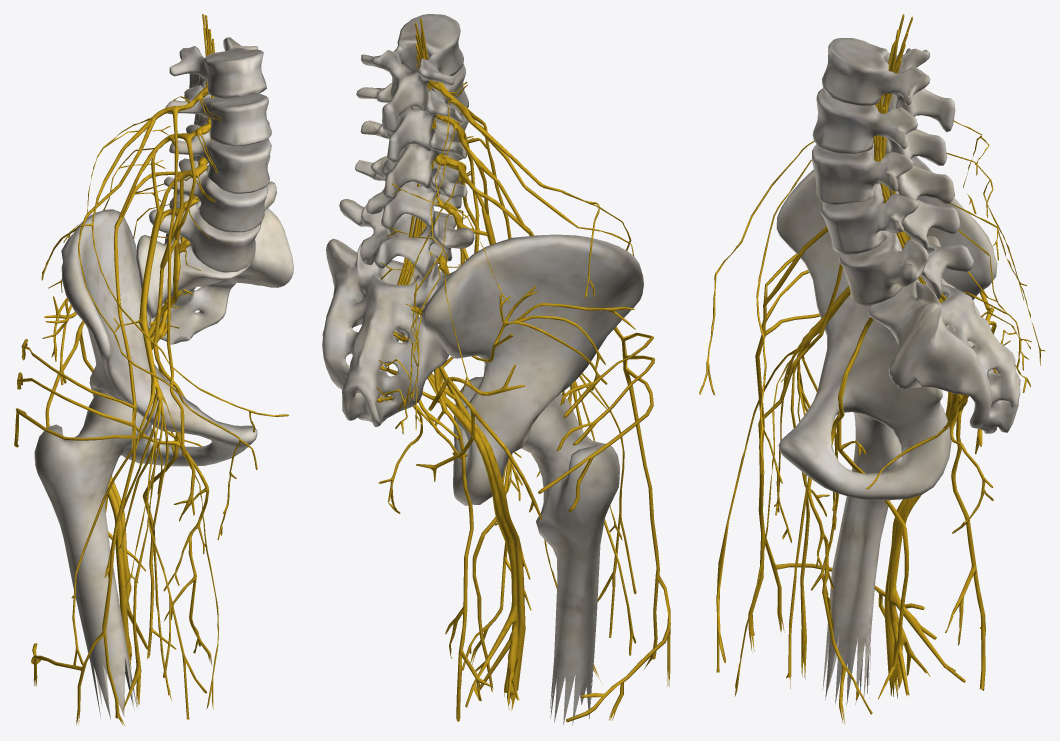
The model's file is lumbosacral-plexus.glb.
The picture shows the model from 3 angles, left to right: view 1: azimuth 30°, elevation 25°; view 2: azimuth 150°, elevation 25°; view 3: azimuth 270°, elevation 25°; orthographic projection. The views are drawn at different scales.
Parts seen in each view (by area): view 1: Right_hip_bone__os_coxa_or_innominate_bone_, Right_femur, Sacrum, Right_femoral_nerve, Right_lateral_femoral_cutaneous_nerve, L1_vertebra, L5_vertebra, L2_vertebra, L3_vertebra, L4_vertebra, Right_lumbar_plexus_L2, Right_anterior_branch_of_obturator_nerve (+12 smaller); view 2: Right_hip_bone__os_coxa_or_innominate_bone_, Right_femur, Sacrum, L1_vertebra, Right_lateral_femoral_cutaneous_nerve, L5_vertebra, L4_vertebra, Right_tibial_part_of_sciatic_nerve, L2_vertebra, L3_vertebra, Right_femoral_nerve, Right_common_fibular_part_of_sciatic_nerve (+14 smaller); view 3: Right_hip_bone__os_coxa_or_innominate_bone_, Sacrum, Right_femur, L1_vertebra, L3_vertebra, L5_vertebra, L2_vertebra, L4_vertebra, Right_femoral_nerve, Right_lateral_femoral_cutaneous_nerve, Right_tibial_part_of_sciatic_nerve, Right_posterior_femoral_cutaneous_nerve (+7 smaller).
Boxes of the visible parts, x1,y1,x2,y2 form: Right_hip_bone__os_coxa_or_innominate_bone_: (61,209,257,466); Right_femur: (34,390,150,719); Sacrum: (136,208,293,344); Right_femoral_nerve: (72,206,218,719); Right_lateral_femoral_cutaneous_nerve: (14,227,136,725); L1_vertebra: (169,37,266,98); L5_vertebra: (149,181,276,272); L2_vertebra: (165,85,271,146); L3_vertebra: (169,120,271,193); L4_vertebra: (163,155,270,233); Right_lumbar_plexus_L2: (48,124,217,292); Right_anterior_branch_of_obturator_nerve: (135,426,212,665); Right_hip_bone__os_coxa_or_innominate_bone_: (421,234,643,505); Right_femur: (521,393,619,725); Sacrum: (322,238,454,426); L1_vertebra: (361,14,463,132); Right_lateral_femoral_cutaneous_nerve: (528,231,670,722); L5_vertebra: (339,199,474,277); L4_vertebra: (355,156,467,229); Right_tibial_part_of_sciatic_nerve: (422,373,519,709); L2_vertebra: (356,64,468,162); L3_vertebra: (360,114,468,199); Right_femoral_nerve: (481,208,636,682); Right_common_fibular_part_of_sciatic_nerve: (439,365,525,710); Right_hip_bone__os_coxa_or_innominate_bone_: (776,156,997,500); Sacrum: (868,235,1020,433); Right_femur: (822,412,902,705); L1_vertebra: (822,38,955,132); L3_vertebra: (812,139,954,205); L5_vertebra: (838,231,973,306); L2_vertebra: (812,88,947,165); L4_vertebra: (820,183,960,254); Right_femoral_nerve: (716,201,884,696); Right_lateral_femoral_cutaneous_nerve: (748,226,936,652); Right_tibial_part_of_sciatic_nerve: (887,392,965,696); Right_posterior_femoral_cutaneous_nerve: (945,410,985,690).
Size of the model in its own units: 0.2184 by 0.4939 by 0.2064.
Materials: 35 (35 with a texture image).
